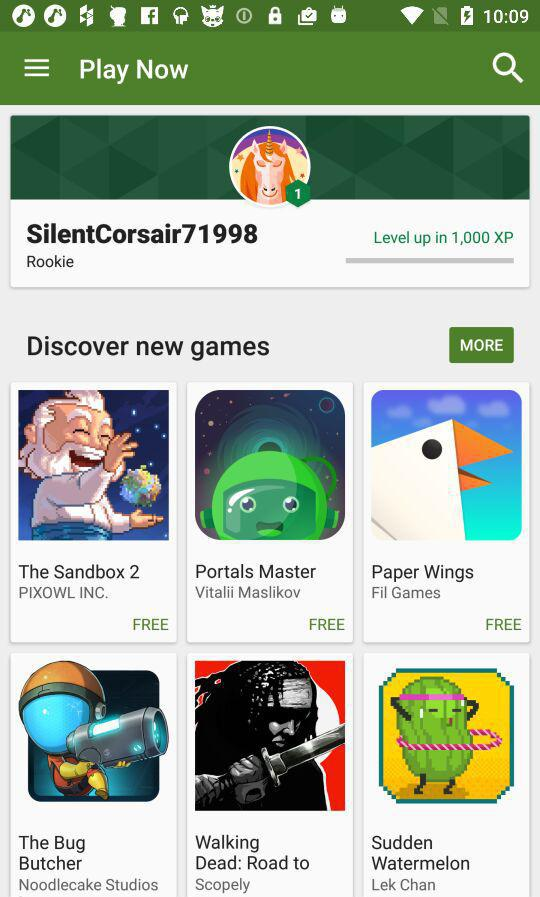Card: (9, 116, 530, 291), (10, 382, 179, 644), (186, 382, 355, 644), (363, 382, 531, 644), (9, 652, 179, 897), (186, 652, 355, 896), (363, 652, 531, 897)
Icon: (491, 52, 524, 85), (24, 58, 51, 78)
Image: (18, 390, 170, 541), (371, 390, 522, 541), (195, 390, 346, 541), (195, 661, 347, 811), (18, 660, 170, 802), (379, 668, 515, 804), (230, 127, 312, 209)
Text: (28, 335, 270, 362), (27, 224, 258, 245), (195, 834, 310, 871), (372, 835, 470, 871), (80, 59, 189, 86), (18, 835, 86, 871), (374, 232, 514, 248), (19, 877, 159, 891), (19, 564, 141, 580), (373, 565, 474, 583), (196, 564, 317, 579), (196, 585, 301, 599), (19, 587, 109, 599), (372, 585, 441, 599), (196, 877, 251, 894), (371, 877, 435, 891), (27, 255, 75, 269), (486, 617, 522, 631), (310, 618, 346, 631), (134, 618, 170, 631)
TextButton: (448, 327, 514, 364)
Toolbar: (1, 33, 540, 105)
UpperTaskBar: (1, 1, 540, 33)
